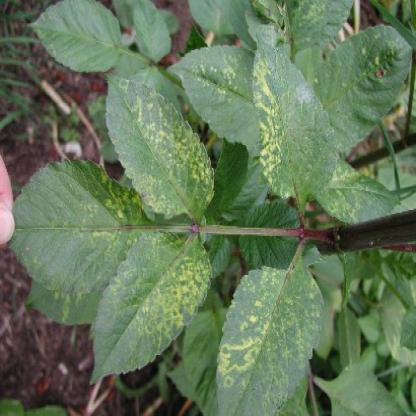Tomato leaf mosaic virus: (88, 230, 213, 385), (213, 252, 324, 412), (102, 72, 213, 222), (248, 38, 335, 221)
